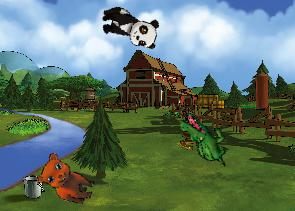bear: (33, 150, 101, 207)
crocodile: (170, 110, 239, 168)
panda: (96, 3, 162, 51)
